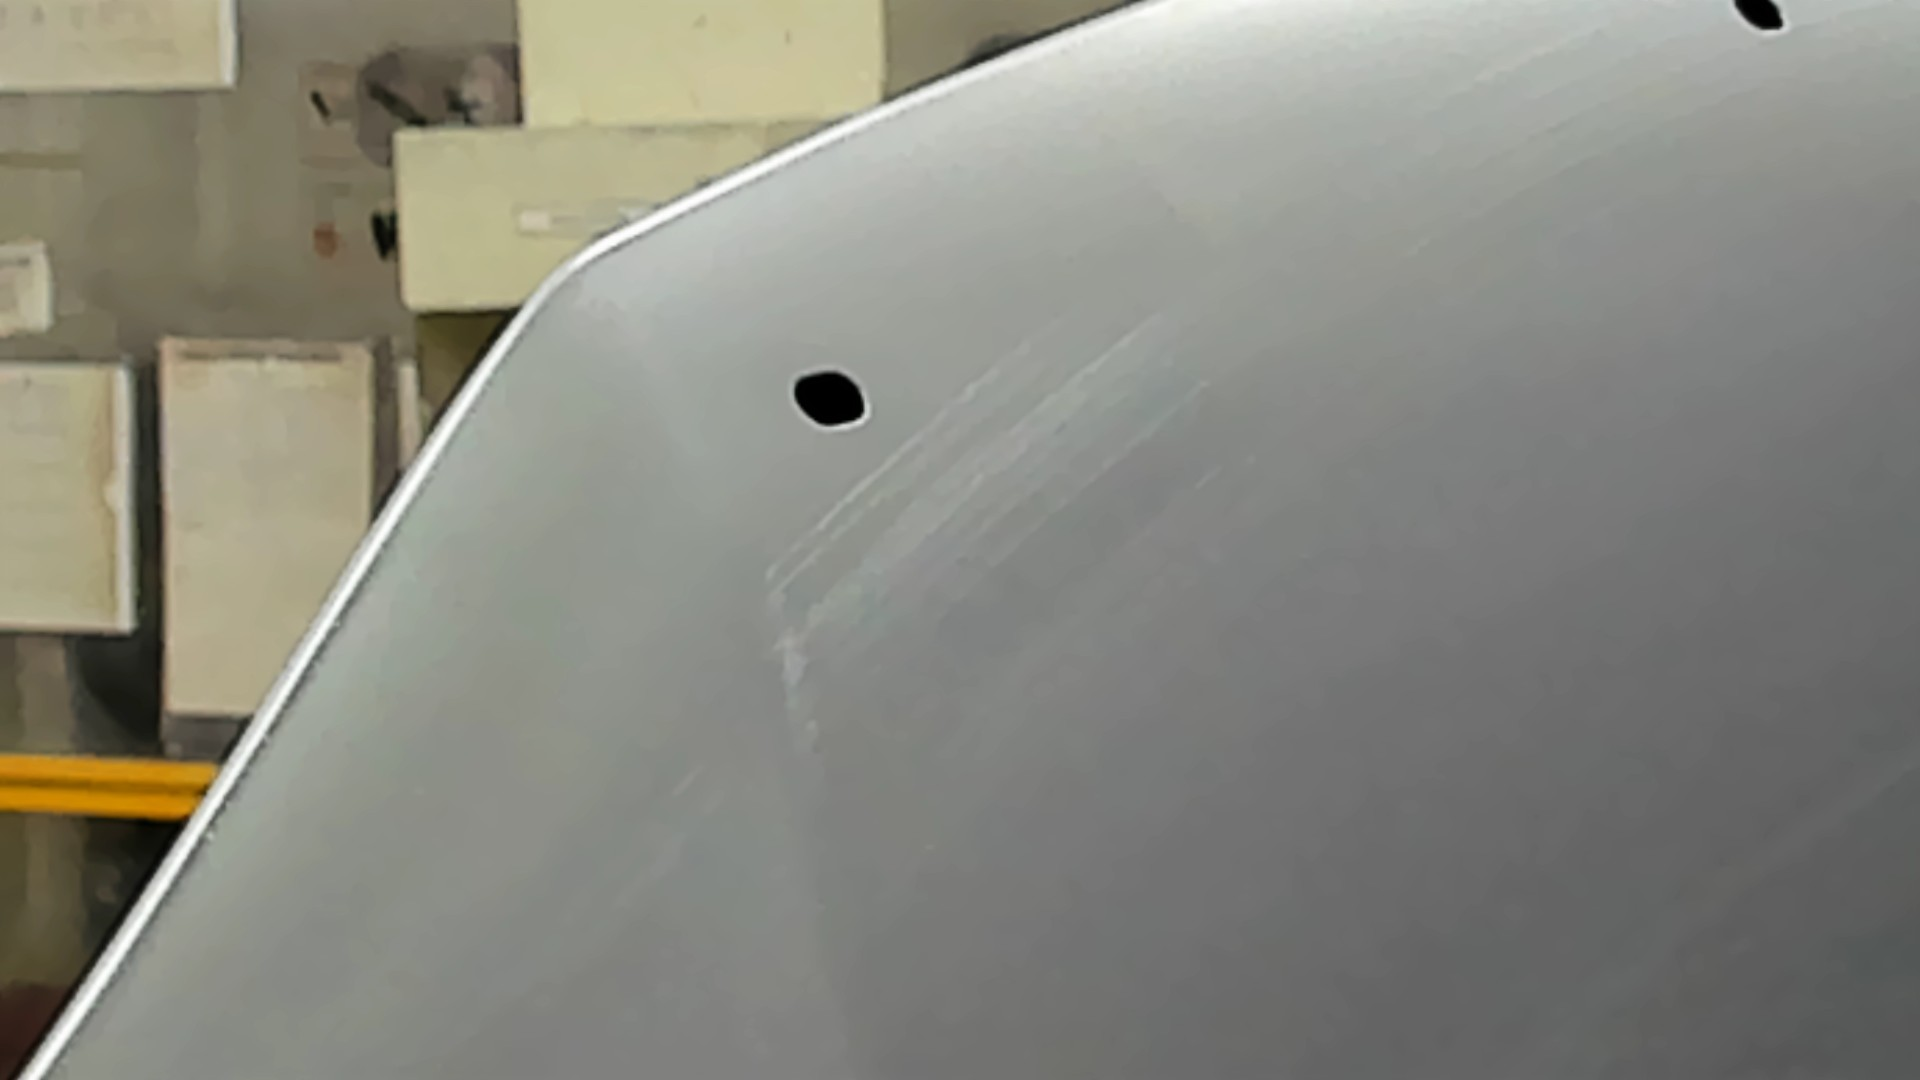amorfo: (781, 360, 880, 436), (1724, 1, 1796, 44)
